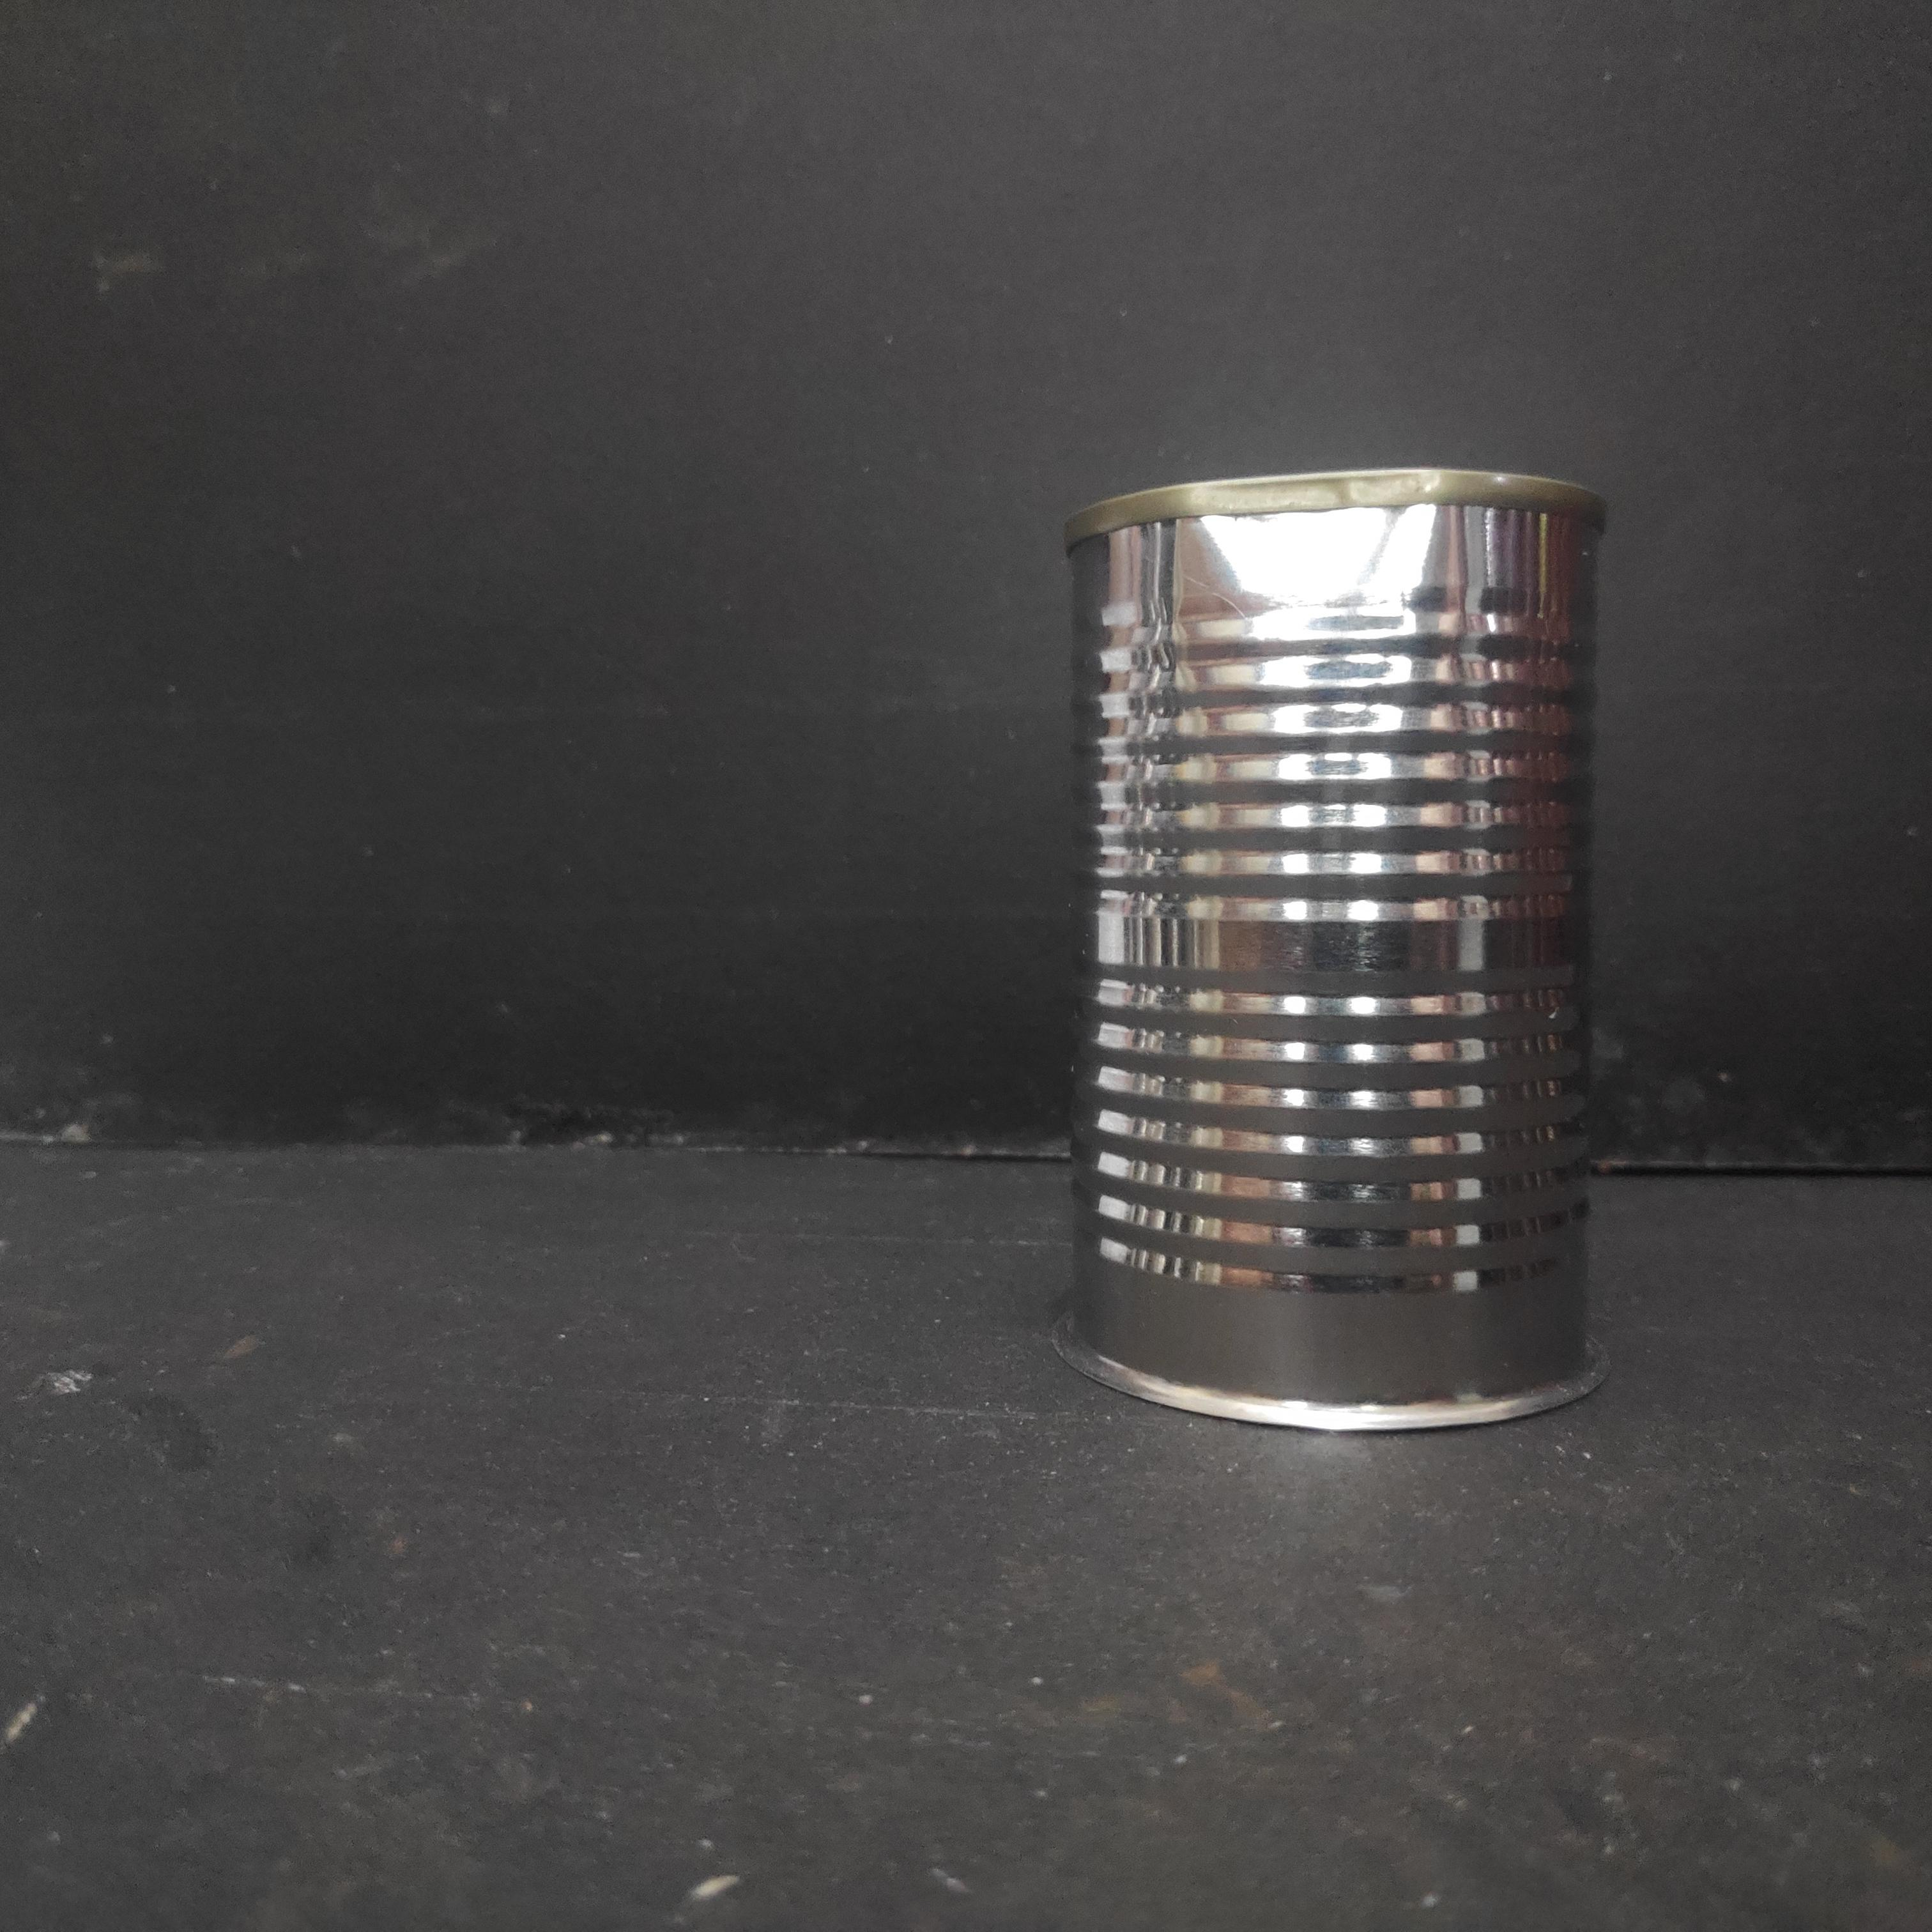Minor Defect: (1046, 460, 1612, 1447)
